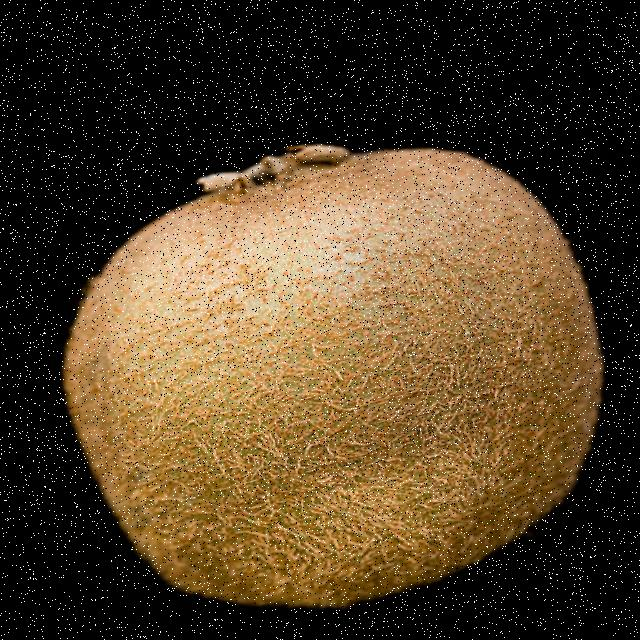kiwi: (64, 145, 603, 608)
